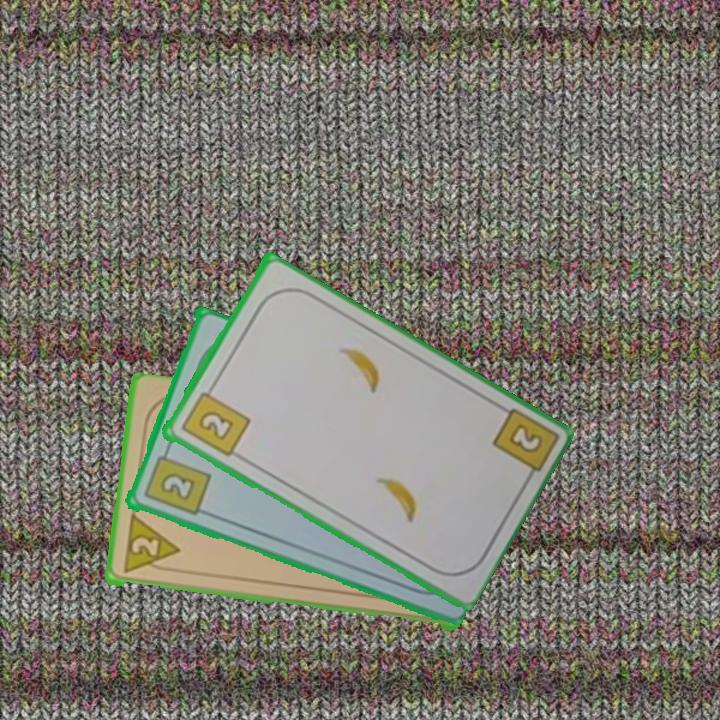2b: (177, 382, 252, 460), (140, 444, 213, 519), (504, 420, 546, 457)
2p: (119, 514, 182, 577)
